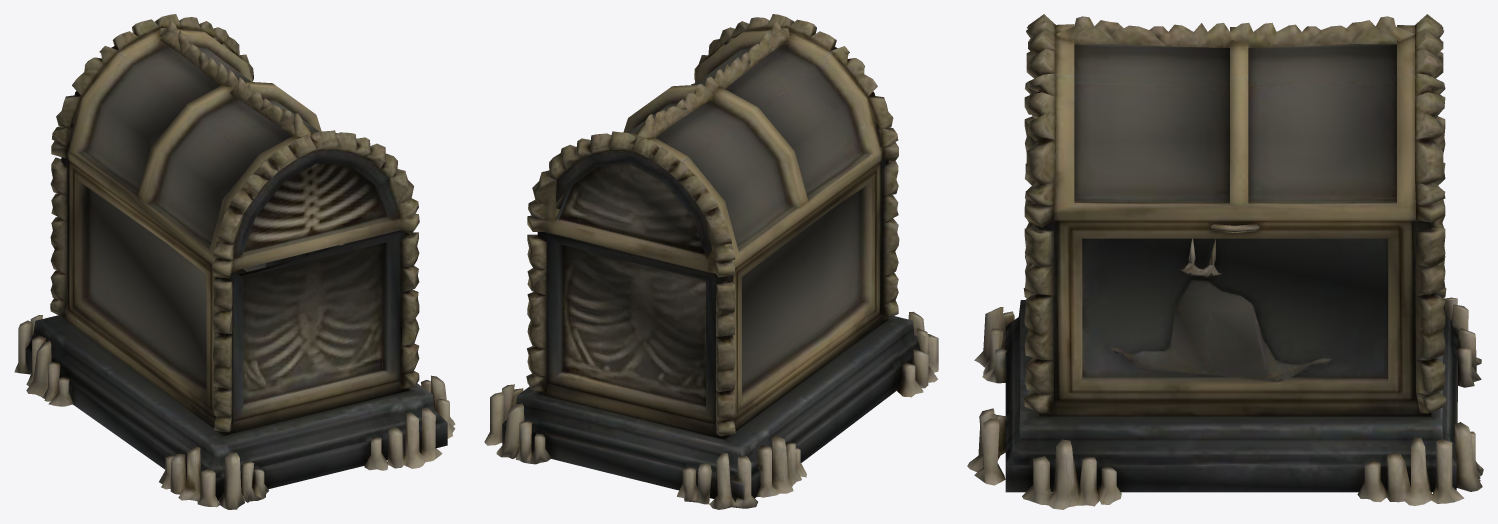
Rendered from abbess_reliquary.glb.
The picture shows the model from 3 angles, left to right: view 1: azimuth 30°, elevation 25°; view 2: azimuth 150°, elevation 25°; view 3: azimuth 270°, elevation 25°; orthographic projection. The views are drawn at different scales.
Parts seen in each view (by area): view 1: tripo_node_78559f43-5755-413a-bae0-8e3f62a33d83; view 2: tripo_node_78559f43-5755-413a-bae0-8e3f62a33d83; view 3: tripo_node_78559f43-5755-413a-bae0-8e3f62a33d83.
Part boxes in pixels (left/top/right/bottom): tripo_node_78559f43-5755-413a-bae0-8e3f62a33d83: left=14, top=14, right=455, bottom=509; tripo_node_78559f43-5755-413a-bae0-8e3f62a33d83: left=484, top=14, right=938, bottom=509; tripo_node_78559f43-5755-413a-bae0-8e3f62a33d83: left=967, top=14, right=1483, bottom=509.
Size of the model in its own units: 0.7833 by 0.8691 by 0.998.
Materials: 1 (1 with a texture image).
